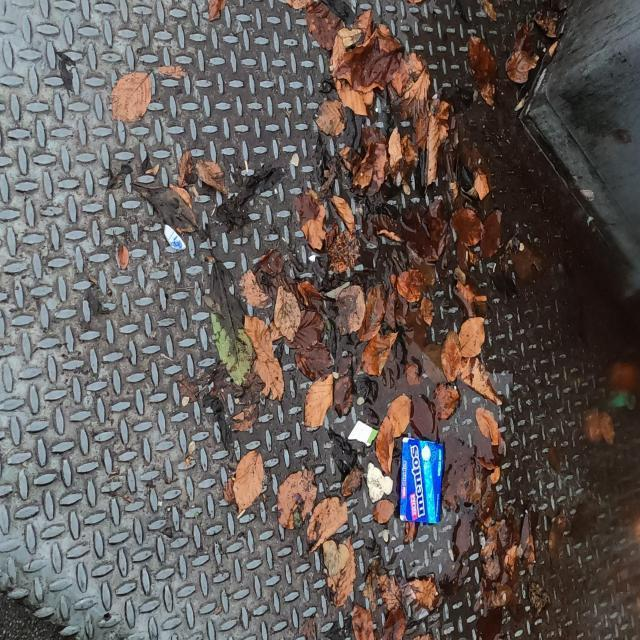Plastic: (399, 436, 444, 525)
